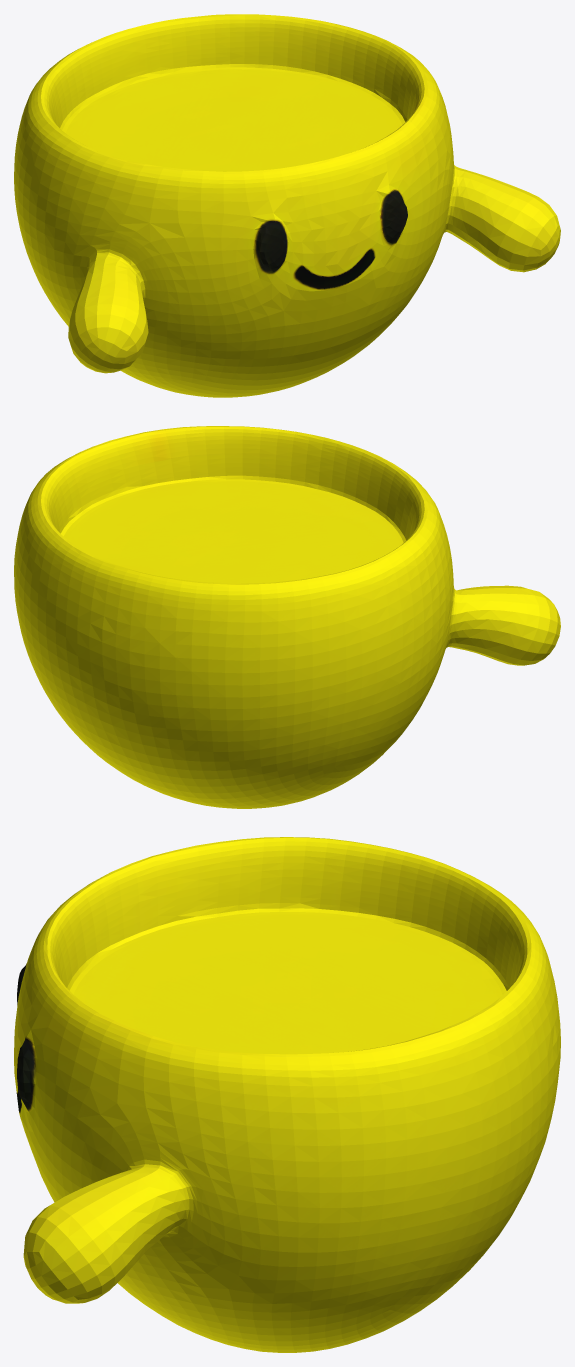
The model's file is bowl_scaled.glb.
3 renders of one model, top to bottom at view 1: azimuth 30°, elevation 25°; view 2: azimuth 150°, elevation 25°; view 3: azimuth 270°, elevation 25°, orthographic. The views are drawn at different scales.
Parts seen in each view (by area): view 1: model; view 2: model; view 3: model.
Part boxes in pixels (x1,y1,x2,y2): model: (14,14,560,397); model: (14,426,560,808); model: (14,837,560,1352).
Size of the model in its own units: 0.3002 by 0.1717 by 0.2241.
1 material, 1 textured.
